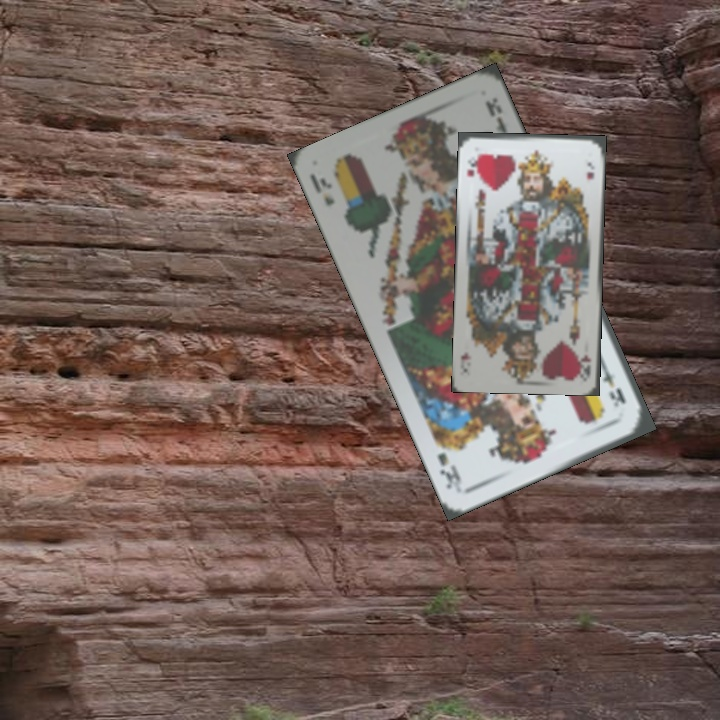EK: (597, 359, 629, 410), (306, 170, 337, 209)
HK: (462, 150, 480, 179), (576, 350, 594, 379)
